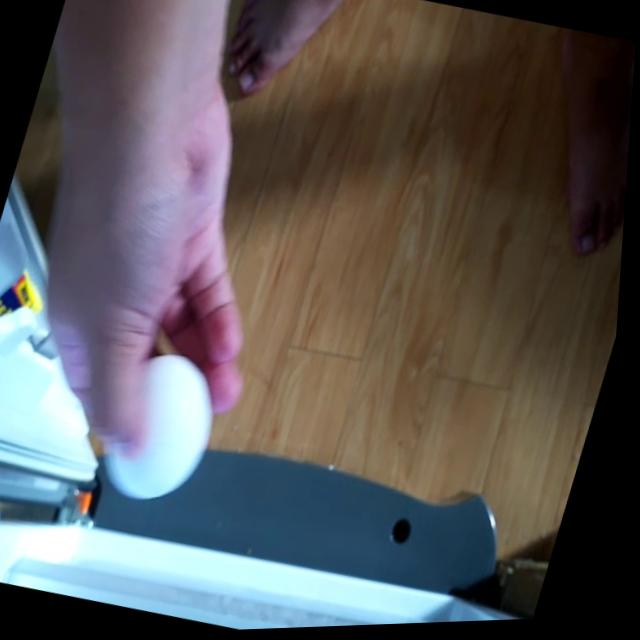egg: (95, 340, 236, 514)
